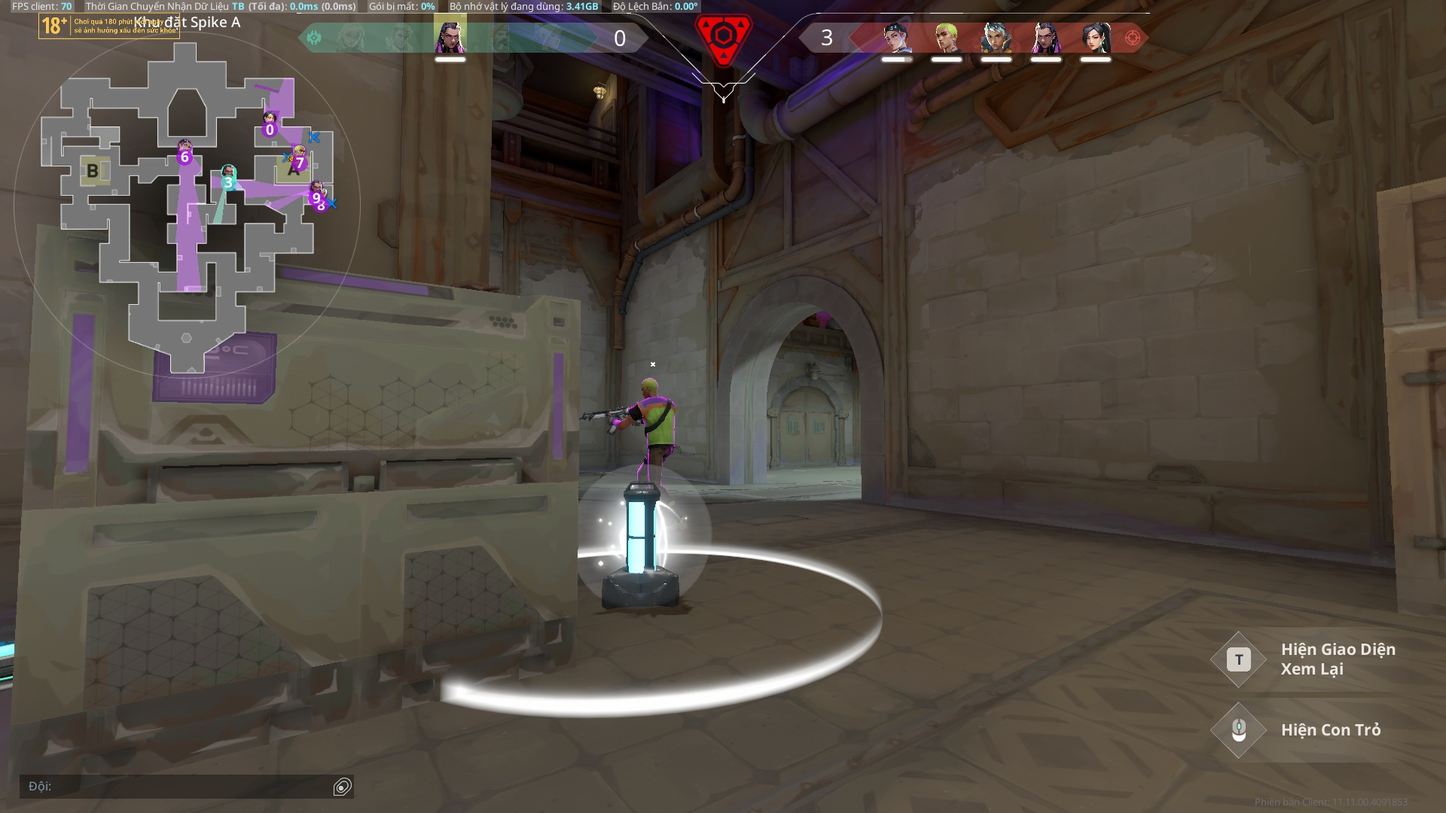body: (638, 397, 679, 444)
head: (639, 377, 664, 400)
